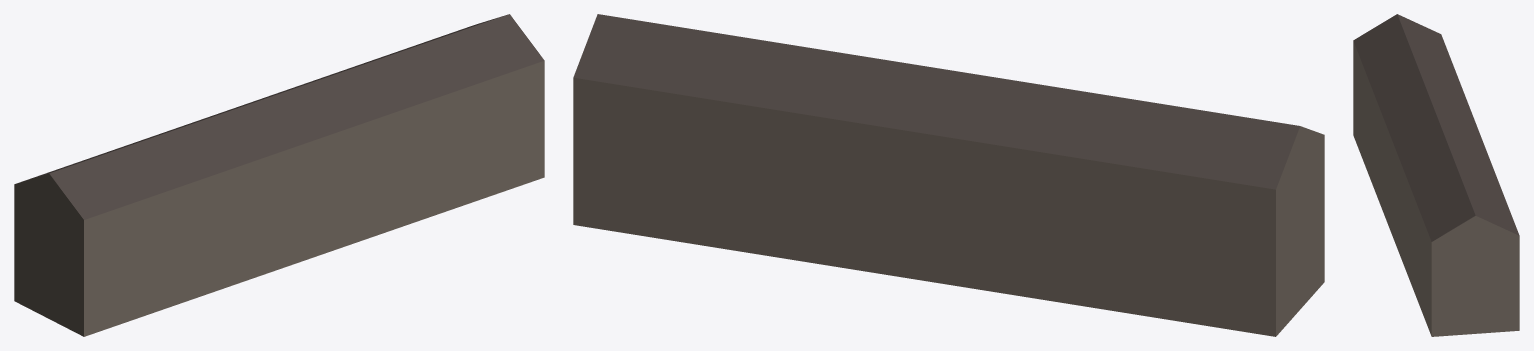
3 views of the same model, side by side, from view 1: azimuth 30°, elevation 25°; view 2: azimuth 150°, elevation 25°; view 3: azimuth 270°, elevation 25° (orthographic). The views are drawn at different scales.
Visible parts, largest first — view 1: HP-w859424267; view 2: HP-w859424267; view 3: HP-w859424267.
Part boxes in pixels (box(x1,y1,x2,y2)): HP-w859424267: box(14, 14, 544, 336); HP-w859424267: box(573, 14, 1324, 336); HP-w859424267: box(1353, 14, 1519, 336).
Size of the model in its own units: 42.28 by 11.21 by 14.3.
